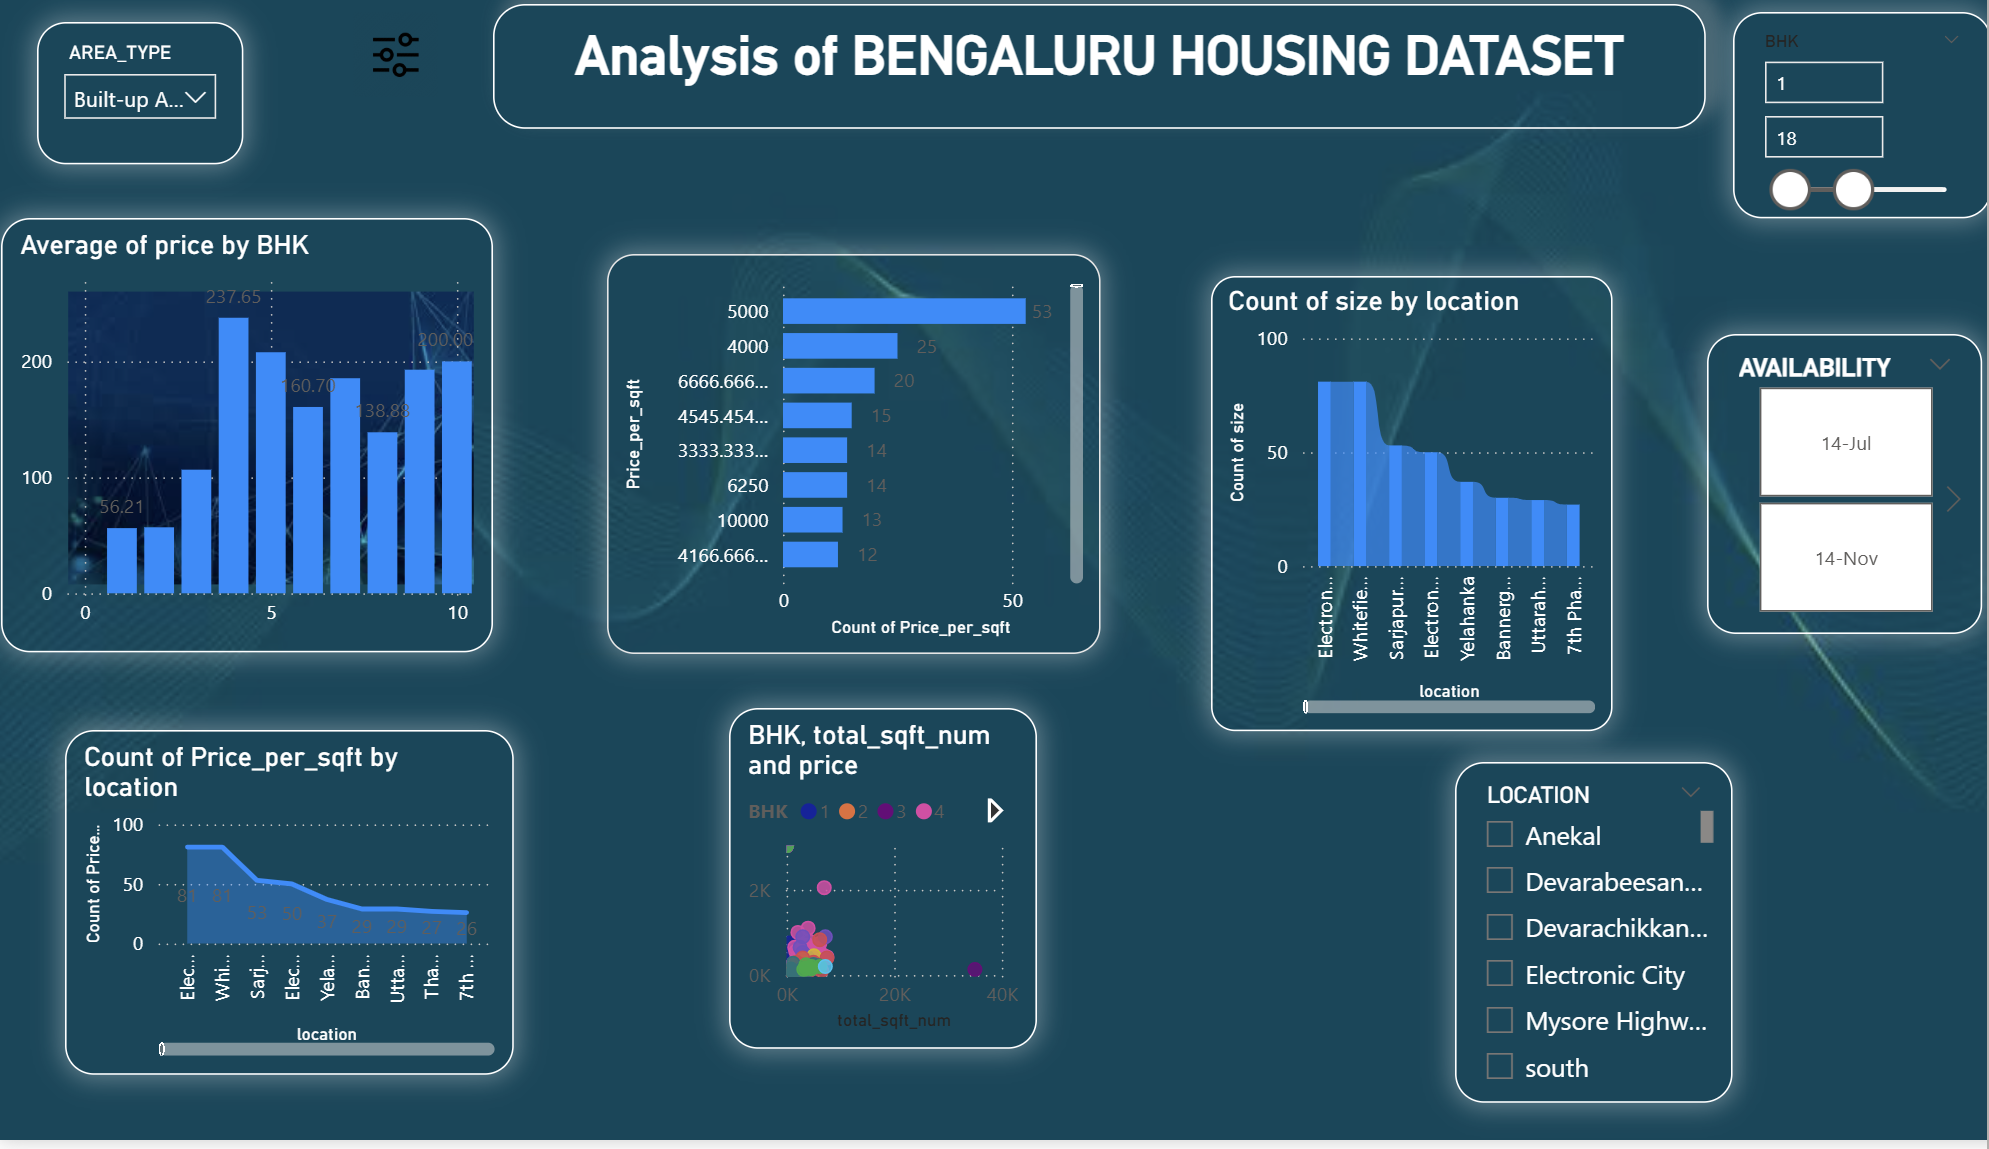

The dashboard page shown, as its layout file describes it:
{"tool":"powerbi","page":{"name":"Dashboard","canvas":[1280,720],"ordinal":0},"visuals":[{"type":"textbox","box":[309,10.5,758.2,78],"z":2000},{"type":"clusteredColumnChart","fields":{"Category":["Bengaluru_House_Data_new.BHK"],"Y":["Avg(Bengaluru_House_Data_new.price)"]},"box":[1.3,144.1,307.3,271.6],"z":3000},{"type":"clusteredBarChart","fields":{"Category":["Bengaluru_House_Data_new.Price_per_sqft"],"Y":["CountNonNull(Bengaluru_House_Data_new.Price_per_sqft)"]},"box":[379.9,165.7,308.5,249.9],"z":4000},{"type":"ribbonChart","fields":{"Category":["Bengaluru_House_Data_new.location"],"Y":["CountNonNull(Bengaluru_House_Data_new.size)"]},"box":[757.3,179.8,251.2,284.3],"z":5000},{"type":"stackedAreaChart","fields":{"Category":["Bengaluru_House_Data_new.location"],"Y":["CountNonNull(Bengaluru_House_Data_new.Price_per_sqft)"]},"box":[40.8,464.1,280.5,215.5],"z":6000},{"type":"scatterChart","fields":{"X":["Bengaluru_House_Data_new.total_sqft_num"],"Y":["Bengaluru_House_Data_new.price"],"Series":["Bengaluru_House_Data_new.BHK"]},"box":[456.4,450,192.5,212.9],"z":7000},{"type":"slicer","fields":{"Values":["Bengaluru_House_Data_new.location"]},"box":[910.3,483.2,173.4,212.9],"z":8000},{"type":"slicer","fields":{"Values":["Bengaluru_House_Data_new.BHK"]},"box":[1083.8,15,161.2,128.8],"z":9000},{"type":"slicer","fields":{"Values":["Bengaluru_House_Data_new.area_type"]},"box":[24.2,21.7,128.8,89.2],"z":10000},{"type":"slicer","fields":{"Values":["Bengaluru_House_Data_new.availability"]},"box":[1067.1,216.7,172.1,187.4],"z":11000}]}

Visuals, with their boxes in screenshot pixels (x1, y1, x2, y2), scaled from the page's 1280x720 canvas onto the 1989x1149 screenshot:
textbox: 480,17,1658,141
clusteredColumnChart - Bengaluru_House_Data_new.BHK x Avg(Bengaluru_House_Data_new.price): 2,230,480,663
clusteredBarChart - Bengaluru_House_Data_new.Price_per_sqft x CountNonNull(Bengaluru_House_Data_new.Price_per_sqft): 590,264,1070,663
ribbonChart - Bengaluru_House_Data_new.location x CountNonNull(Bengaluru_House_Data_new.size): 1177,287,1567,741
stackedAreaChart - Bengaluru_House_Data_new.location x CountNonNull(Bengaluru_House_Data_new.Price_per_sqft): 63,741,499,1085
scatterChart - Bengaluru_House_Data_new.total_sqft_num x Bengaluru_House_Data_new.price: 709,718,1008,1058
slicer - Bengaluru_House_Data_new.location: 1415,771,1684,1111
slicer - Bengaluru_House_Data_new.BHK: 1684,24,1935,229
slicer - Bengaluru_House_Data_new.area_type: 38,35,238,177
slicer - Bengaluru_House_Data_new.availability: 1658,346,1926,645
